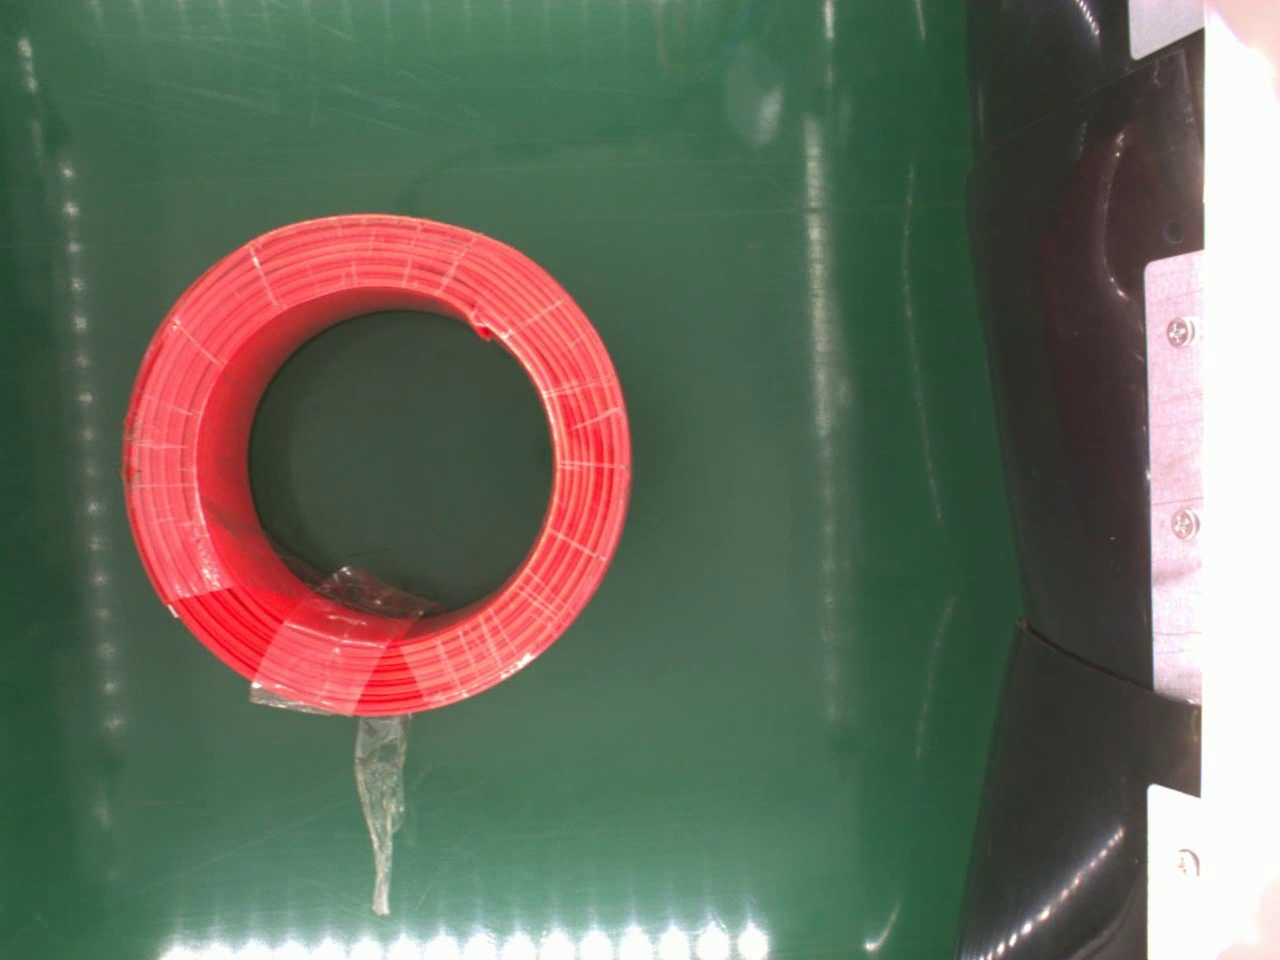red: (119, 205, 637, 716)
